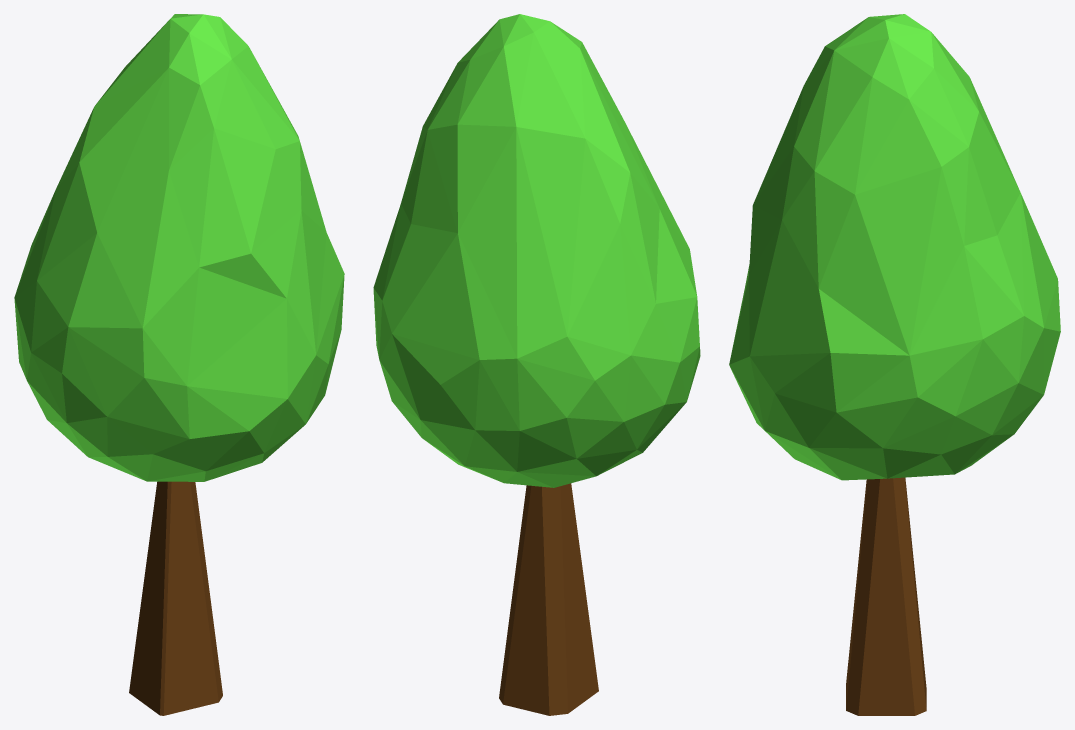
Rendered from arbolbase.fbx.
The picture shows the model from 3 angles, left to right: view 1: azimuth 30°, elevation 25°; view 2: azimuth 150°, elevation 25°; view 3: azimuth 270°, elevation 25°; orthographic projection. The views are drawn at different scales.
Parts seen in each view (by area): view 1: arbol fino; view 2: arbol fino; view 3: arbol fino.
Boxes of the visible parts, left/top/right/bottom form: arbol fino: left=14, top=14, right=344, bottom=715; arbol fino: left=373, top=14, right=700, bottom=715; arbol fino: left=729, top=14, right=1060, bottom=715.
Size of the model in its own units: 390 by 873 by 379.
